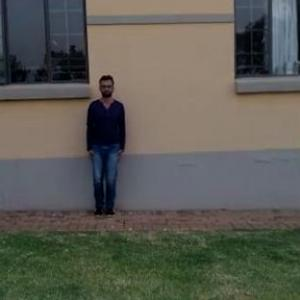follow: (84, 73, 126, 217)
